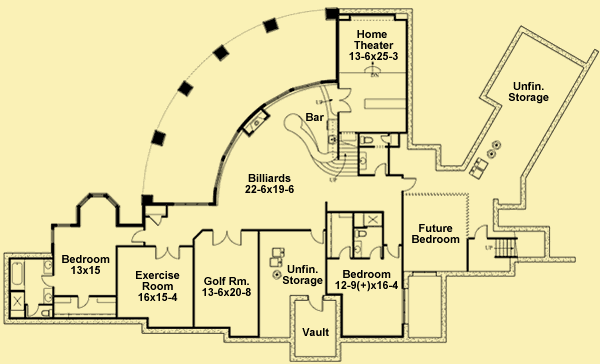door: (211, 228, 242, 246), (337, 86, 355, 115), (153, 244, 181, 260), (307, 295, 324, 312), (403, 176, 418, 192), (310, 228, 326, 243), (473, 224, 488, 239), (372, 162, 387, 176), (387, 243, 401, 258), (41, 275, 56, 288), (336, 247, 351, 260), (131, 229, 144, 243), (76, 296, 90, 308), (369, 246, 381, 260), (150, 214, 163, 225)
large_sink: (357, 133, 374, 145), (39, 306, 53, 320), (354, 228, 368, 239)
small_sink: (359, 151, 368, 172), (41, 288, 52, 304), (44, 258, 53, 275), (354, 240, 363, 257)
stairs: (316, 132, 359, 183), (483, 238, 519, 259)
tub: (9, 256, 25, 291)
windows: (171, 201, 212, 208), (87, 190, 106, 199), (55, 222, 74, 229), (49, 227, 56, 246)
